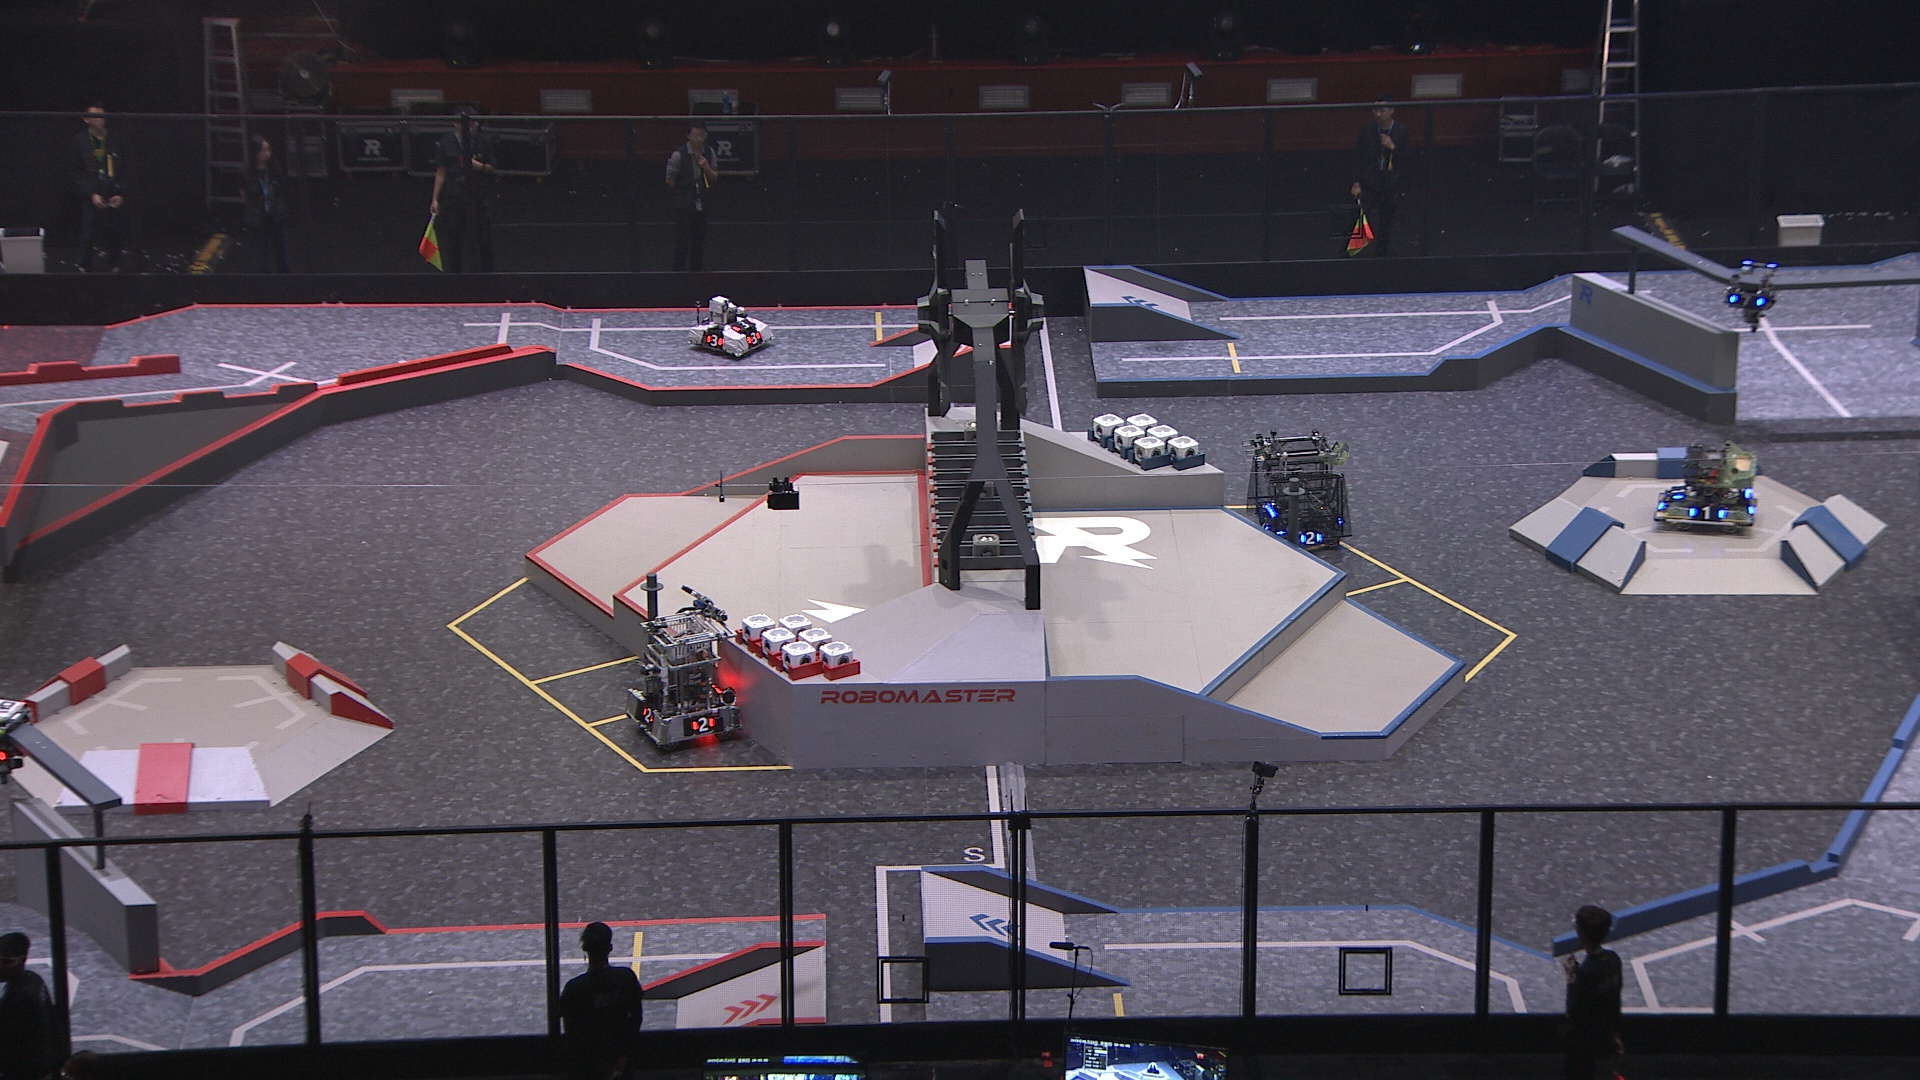armor: (1727, 289, 1770, 313), (1685, 502, 1730, 524), (688, 713, 717, 736), (637, 703, 659, 728), (1298, 529, 1325, 547), (731, 315, 756, 334), (744, 328, 765, 348), (703, 330, 723, 351), (1253, 516, 1273, 533), (1669, 483, 1688, 500)
car: (628, 611, 741, 749), (1244, 431, 1356, 550), (1651, 436, 1762, 535), (684, 290, 775, 357)
watcher: (1724, 255, 1783, 334)
